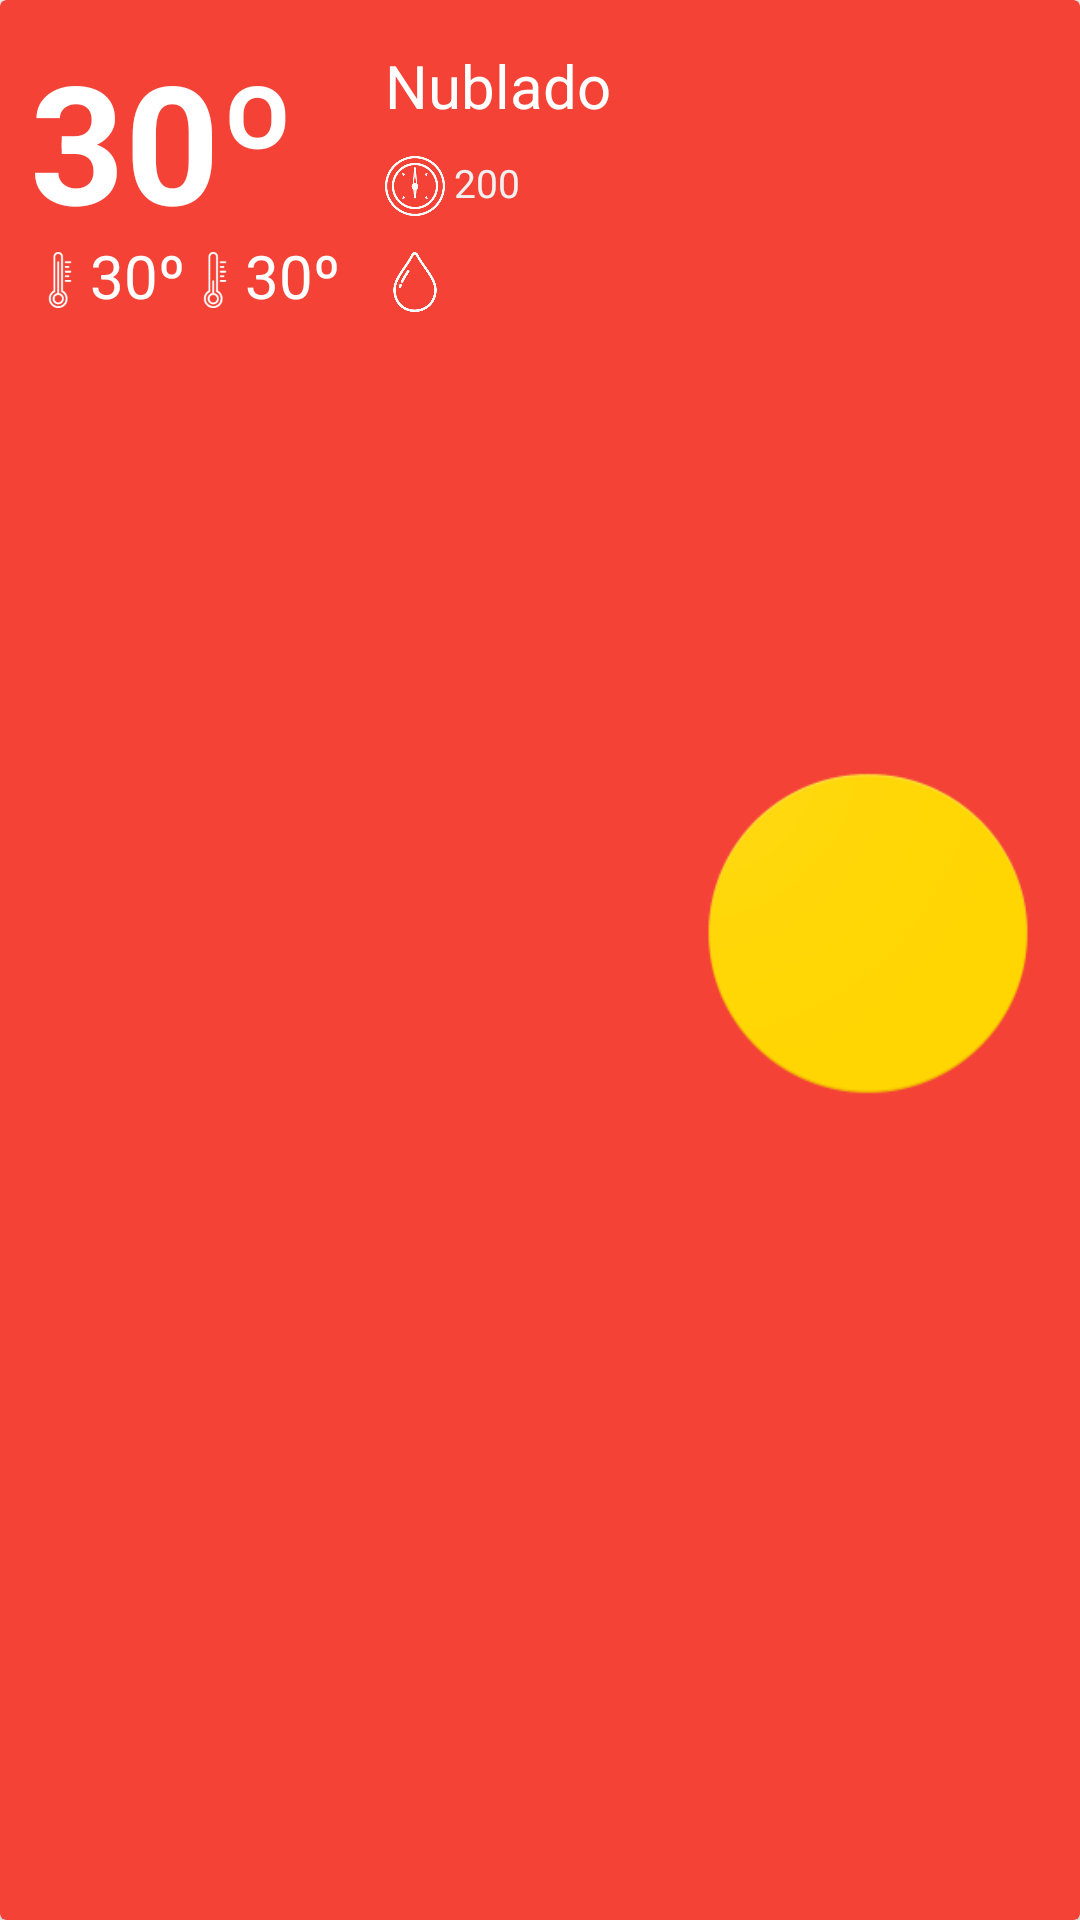

Named icons in this screenshot (1080×1920) and their centers, [x,y]:
pressao: [415,186]
umidade: [415,282]
